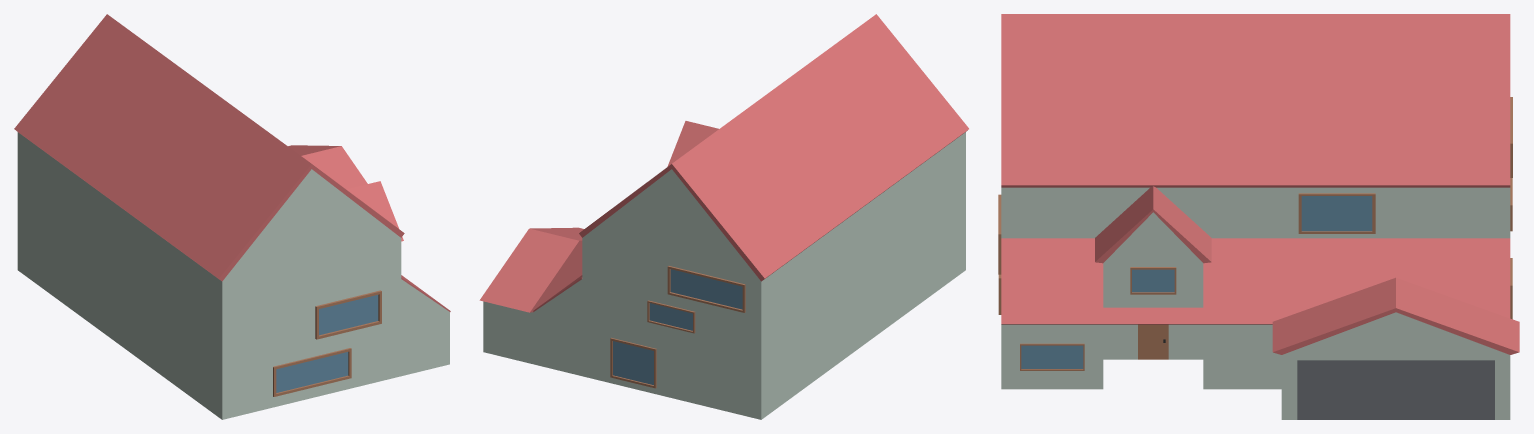
File: House.fbx
3 renders of one model, left to right at view 1: azimuth 30°, elevation 25°; view 2: azimuth 150°, elevation 25°; view 3: azimuth 270°, elevation 25°, orthographic. The views are drawn at different scales.
Parts seen in each view (by area): view 1: House; view 2: House; view 3: House.
Boxes of the visible parts, x1=… form: House: x1=14, y1=14, x2=450, y2=419; House: x1=479, y1=14, x2=968, y2=419; House: x1=998, y1=14, x2=1519, y2=419.
Size of the model in its own units: 1121 by 891 by 1444.
